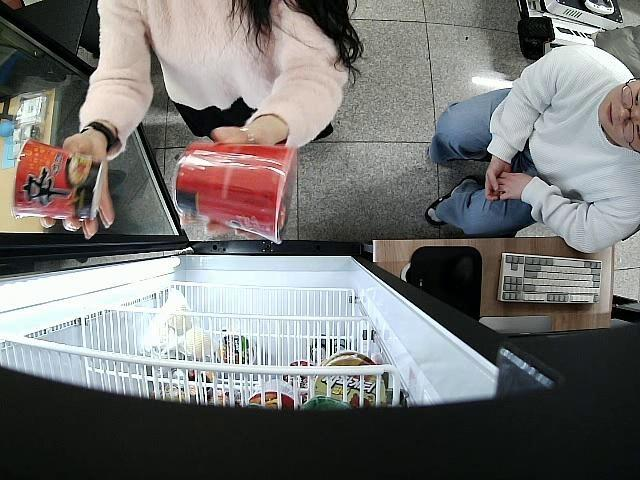02_shinRamen_S: (172, 142, 298, 246), (12, 138, 105, 222)
